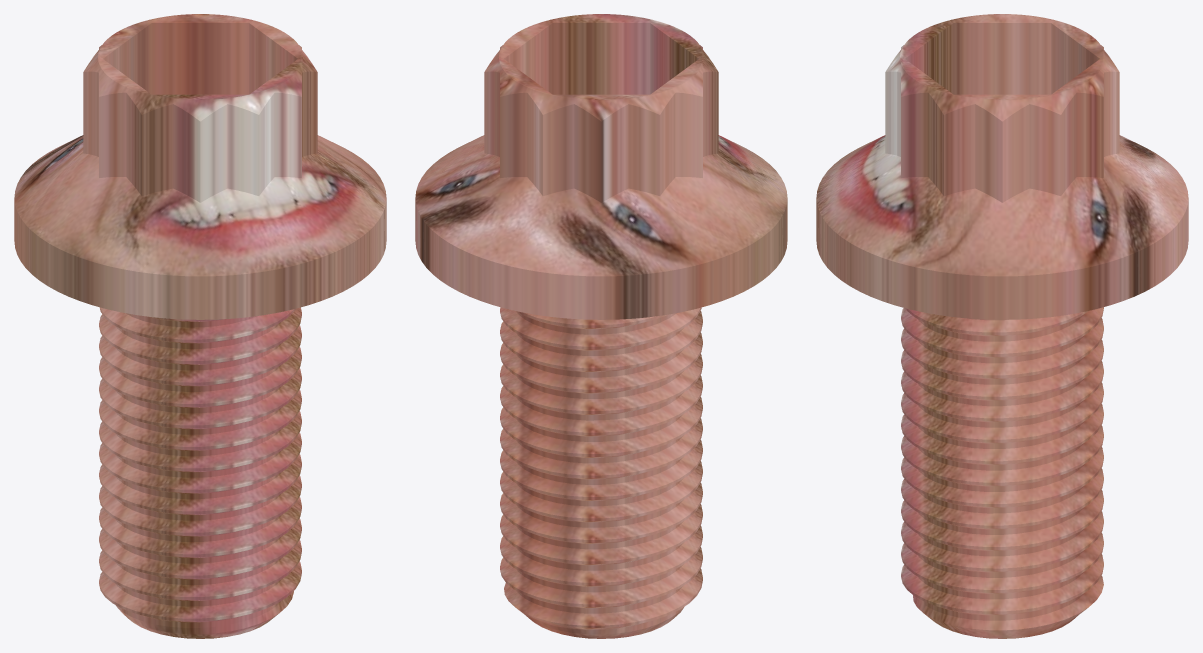
Rendered from kroeger-12-point-allen-bolt.glb.
The picture shows the model from 3 angles, left to right: view 1: azimuth 30°, elevation 25°; view 2: azimuth 150°, elevation 25°; view 3: azimuth 270°, elevation 25°; orthographic projection.
Visible parts, largest first — view 1: Bolt.008; view 2: Bolt.008; view 3: Bolt.008.
Boxes of the visible parts, x1,y1,x2,y2 form: Bolt.008: (14, 14, 386, 638); Bolt.008: (415, 14, 787, 638); Bolt.008: (816, 14, 1188, 638).
Bounding box in the file's own units: 0.011 × 0.0179 × 0.011.
1 material, 1 textured.
